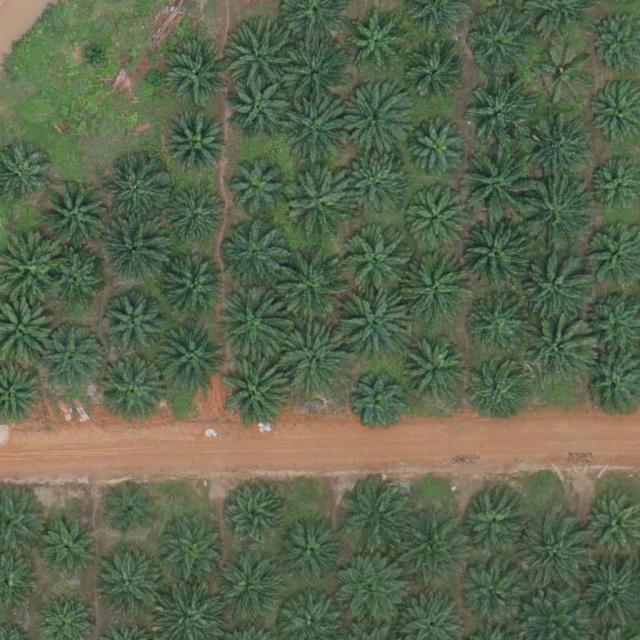Healthy: (459, 556, 530, 627), (392, 516, 463, 587), (334, 557, 405, 628), (89, 549, 160, 620), (460, 151, 531, 222), (461, 218, 532, 289), (340, 83, 411, 154), (215, 291, 286, 362), (100, 354, 171, 425), (519, 519, 589, 590), (458, 488, 528, 559), (339, 484, 409, 555), (155, 515, 225, 586), (520, 251, 590, 322), (522, 180, 592, 251), (464, 75, 534, 146), (401, 339, 471, 410), (344, 229, 414, 300), (284, 93, 354, 164), (287, 166, 357, 237), (276, 249, 346, 320), (280, 328, 350, 399), (220, 218, 290, 289), (227, 16, 297, 87), (100, 215, 170, 286), (155, 324, 225, 395), (41, 180, 111, 251), (522, 317, 592, 387), (522, 108, 592, 178), (400, 254, 470, 324), (345, 290, 415, 360), (223, 360, 293, 430), (404, 190, 467, 253), (345, 12, 408, 75), (227, 159, 290, 222), (105, 162, 168, 225), (282, 517, 344, 580), (215, 557, 278, 619), (222, 484, 285, 546), (38, 512, 100, 575), (466, 12, 528, 75), (469, 295, 531, 358), (467, 363, 529, 426), (402, 49, 465, 111), (284, 42, 347, 104), (228, 78, 290, 141), (167, 187, 229, 250), (164, 260, 227, 322), (104, 297, 166, 360), (42, 324, 104, 387), (347, 157, 409, 219), (166, 47, 228, 109), (167, 115, 229, 177), (103, 481, 158, 536), (411, 124, 466, 179), (48, 252, 103, 307), (350, 378, 404, 433)
Small: (78, 39, 109, 71)
Yellow: (534, 43, 597, 105)
